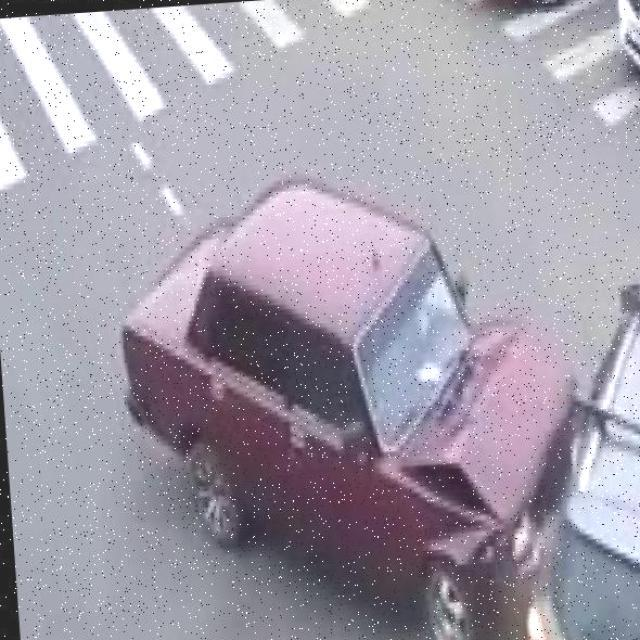accident: (105, 145, 640, 640)
